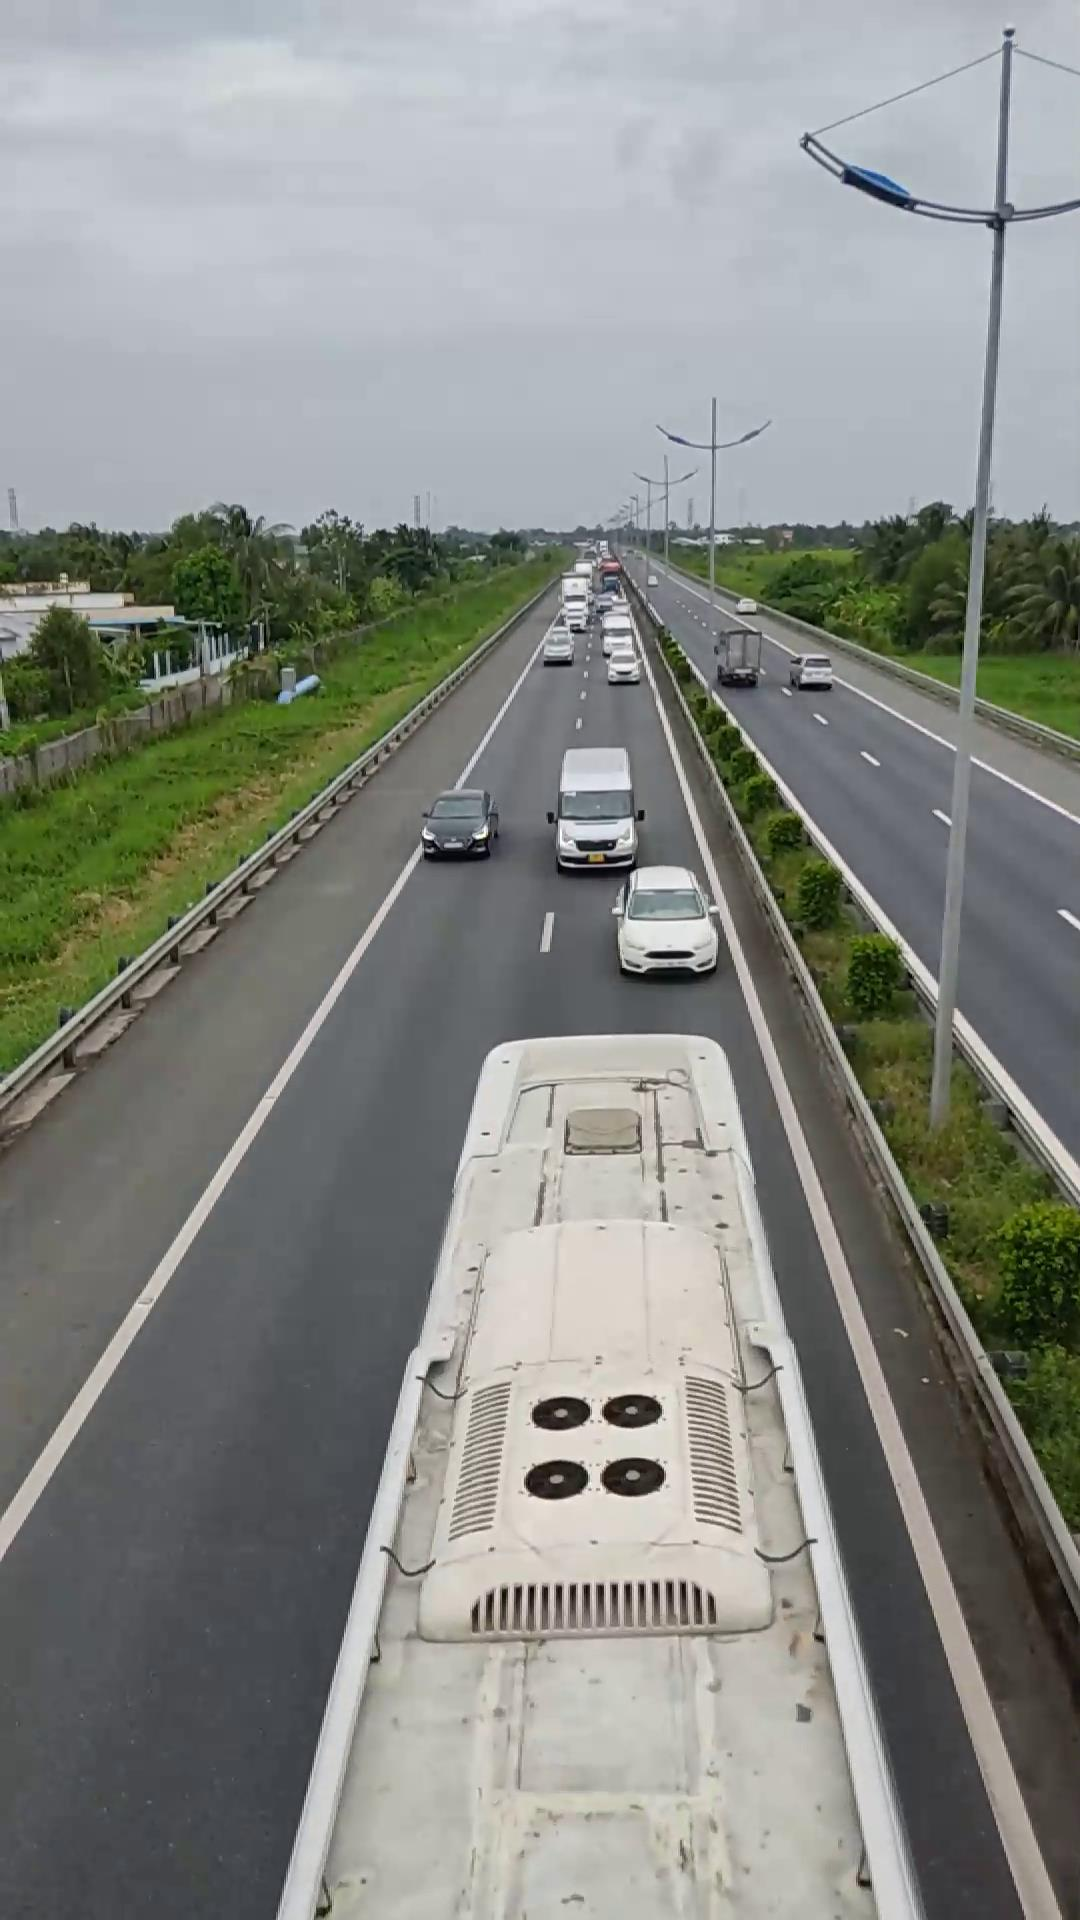bus: (276, 1022, 928, 1917)
car: (611, 862, 720, 977), (547, 745, 644, 872), (418, 787, 500, 858)
